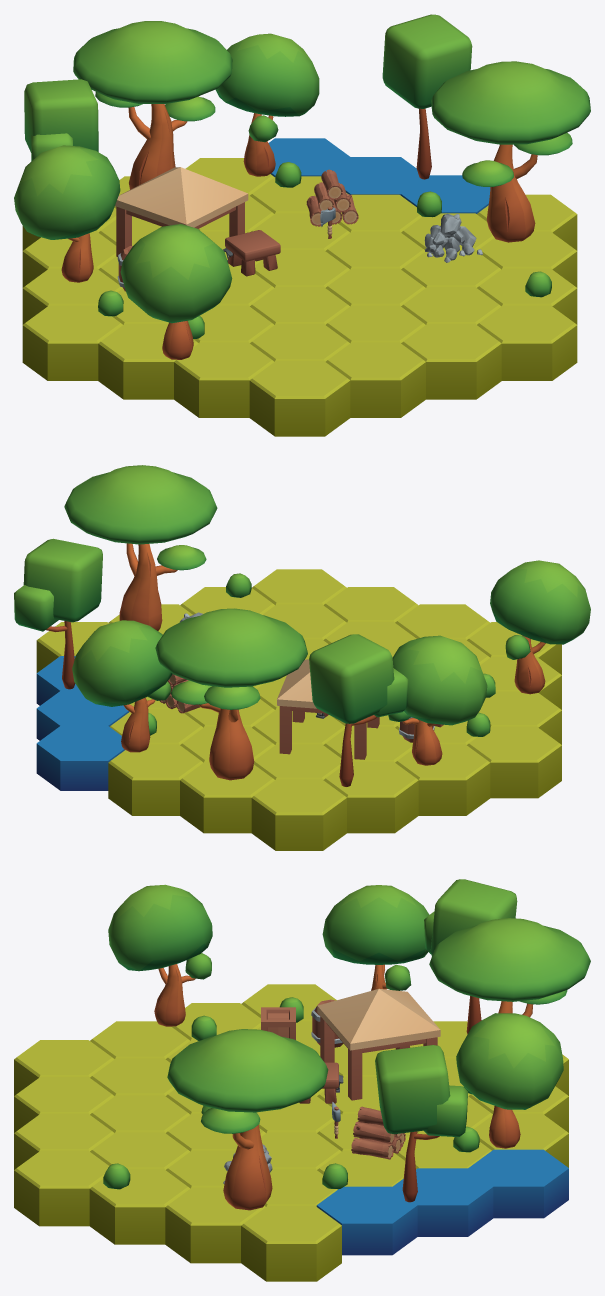
File: forest-camp.glb
The picture shows the model from 3 angles, top to bottom: view 1: azimuth 30°, elevation 25°; view 2: azimuth 150°, elevation 25°; view 3: azimuth 270°, elevation 25°; orthographic projection. The views are drawn at different scales.
Parts seen in each view (by area): view 1: hex_grass (×30), Tree_3_A_Color1 (×2), Tree_1_A_Color1 (×3), Tree_2_A_Color1 (×2), hex_water (×3), tent, Bush_1_A_Color1 (×4), chair_stool_wood, Wood_Log_Stack, Stone_Chunks_Large; view 2: hex_grass (×25), Tree_3_A_Color1 (×2), Tree_1_A_Color1 (×3), Tree_2_A_Color1 (×2), hex_water (×3), tent, Bush_1_A_Color1; view 3: hex_grass (×27), Tree_1_A_Color1 (×3), Tree_3_A_Color1 (×2), hex_water (×3), Tree_2_A_Color1 (×2), tent, Wood_Log_Stack, Bush_1_A_Color1 (×3), crate_A_big, chair_stool_wood.
Boxes of the visible parts, left/top/right/bottom form: hex_grass (×30): left=22, top=158, right=577, bottom=436; Tree_3_A_Color1 (×2): left=73, top=21, right=590, bottom=242; Tree_1_A_Color1 (×3): left=14, top=33, right=319, bottom=359; Tree_2_A_Color1 (×2): left=24, top=14, right=472, bottom=179; hex_water (×3): left=268, top=138, right=490, bottom=213; tent: left=115, top=167, right=248, bottom=256; Bush_1_A_Color1 (×4): left=98, top=162, right=551, bottom=316; chair_stool_wood: left=225, top=230, right=280, bottom=276; Wood_Log_Stack: left=306, top=169, right=358, bottom=226; Stone_Chunks_Large: left=424, top=214, right=482, bottom=262; hex_grass (×25): left=36, top=569, right=561, bottom=850; Tree_3_A_Color1 (×2): left=64, top=465, right=307, bottom=780; Tree_1_A_Color1 (×3): left=72, top=560, right=590, bottom=765; Tree_2_A_Color1 (×2): left=14, top=538, right=408, bottom=786; hex_water (×3): left=36, top=656, right=129, bottom=790; tent: left=277, top=659, right=379, bottom=759; Bush_1_A_Color1: left=226, top=573, right=251, bottom=597; hex_grass (×27): left=14, top=984, right=568, bottom=1281; Tree_1_A_Color1 (×3): left=108, top=884, right=563, bottom=1148; Tree_3_A_Color1 (×2): left=167, top=918, right=590, bottom=1210; hex_water (×3): left=316, top=1149, right=568, bottom=1255; Tree_2_A_Color1 (×2): left=375, top=879, right=517, bottom=1202; tent: left=317, top=988, right=440, bottom=1100; Wood_Log_Stack: left=351, top=1106, right=405, bottom=1159; Bush_1_A_Color1 (×3): left=103, top=1015, right=347, bottom=1189; crate_A_big: left=261, top=1007, right=295, bottom=1039; chair_stool_wood: left=299, top=1062, right=338, bottom=1103.
Size of the model in its own units: 14 by 5.2 by 13.2.
15 materials, 14 textured.
